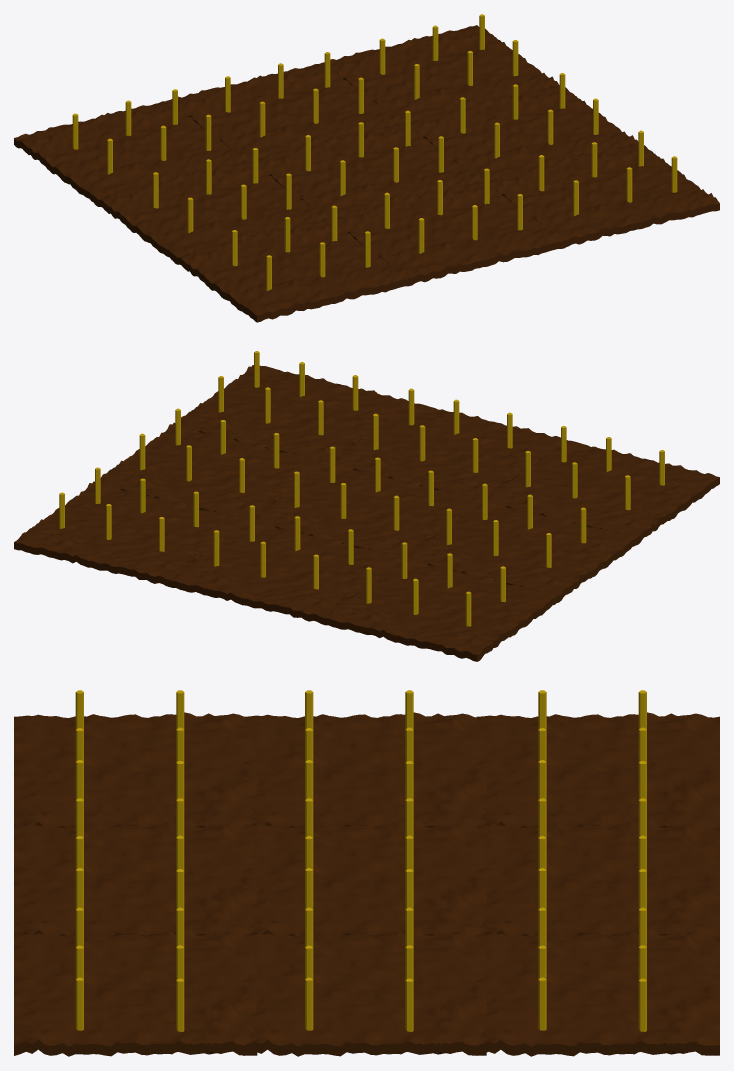
File: Zboze_male.FBX
The picture shows the model from 3 angles, top to bottom: view 1: azimuth 30°, elevation 25°; view 2: azimuth 150°, elevation 25°; view 3: azimuth 270°, elevation 25°; orthographic projection. The views are drawn at different scales.
Visible parts, largest first — view 1: Box014, Box010, Box012, Box018, Box015, Box016, Box017, Box011, Box013; view 2: Box018, Box016, Box017, Box014, Box015, Box010, Box012, Box011, Box013; view 3: Box010, Box016, Box011, Box014, Box012, Box018, Box017, Box015, Box013.
Boxes of the visible parts, left/top/right/bottom form: Box014: left=173, top=218, right=412, bottom=322; Box010: left=489, top=143, right=719, bottom=247; Box012: left=331, top=181, right=565, bottom=285; Box018: left=14, top=100, right=250, bottom=205; Box015: left=94, top=160, right=330, bottom=261; Box016: left=321, top=25, right=559, bottom=124; Box017: left=166, top=63, right=403, bottom=161; Box011: left=410, top=85, right=638, bottom=181; Box013: left=252, top=122, right=483, bottom=219; Box018: left=321, top=556, right=560, bottom=661; Box016: left=14, top=481, right=249, bottom=586; Box017: left=168, top=519, right=401, bottom=624; Box014: left=487, top=440, right=719, bottom=545; Box015: left=407, top=497, right=640, bottom=602; Box010: left=181, top=365, right=408, bottom=460; Box012: left=335, top=402, right=567, bottom=498; Box011: left=100, top=422, right=329, bottom=517; Box013: left=255, top=460, right=481, bottom=555; Box010: left=14, top=930, right=257, bottom=1056; Box016: left=476, top=930, right=719, bottom=1056; Box011: left=243, top=930, right=486, bottom=1056; Box014: left=14, top=712, right=257, bottom=828; Box012: left=14, top=820, right=257, bottom=936; Box018: left=476, top=712, right=719, bottom=828; Box017: left=476, top=820, right=719, bottom=936; Box015: left=243, top=712, right=486, bottom=828; Box013: left=243, top=820, right=486, bottom=936.
Size of what is drawn, in the model's own units: 64.76 by 5.69 by 58.82.
